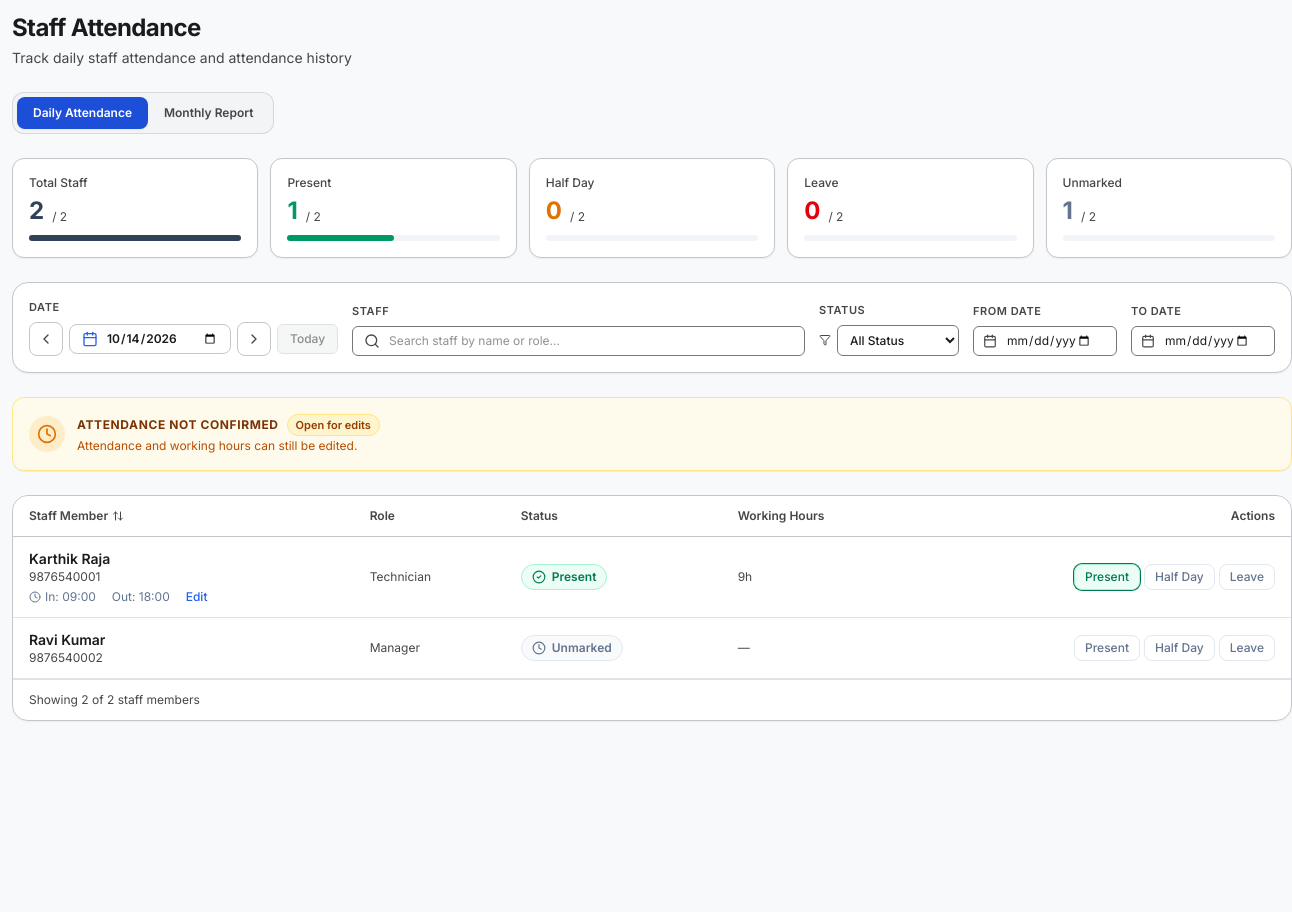
Test: Staff Attendance & Salary › AttendancePage (/staff-attendance) › 5. Status filter filters roster by Present, HalfDay, Leave, Unmarked
Expected: the text "Karthik Raja" is shown, [29,550,110,567]
Expected: the text "Ravi Kumar" is shown, [29,631,105,648]
Select "Present" in the dropdown at x=898, y=340, box [837,324,959,356]
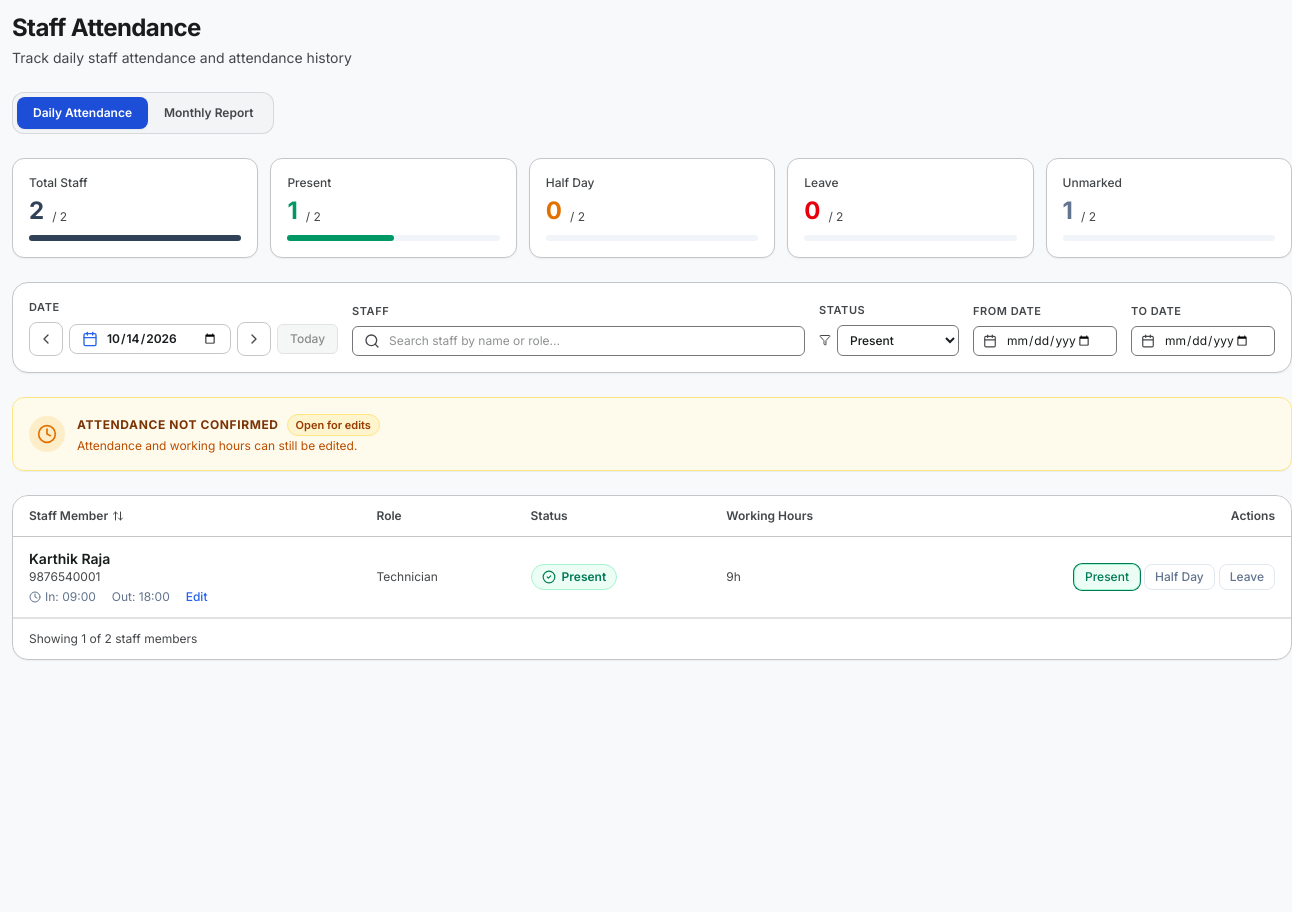
Expected: the text "Karthik Raja" is shown, [29,550,110,567]
Result: the text "Ravi Kumar" is gone
